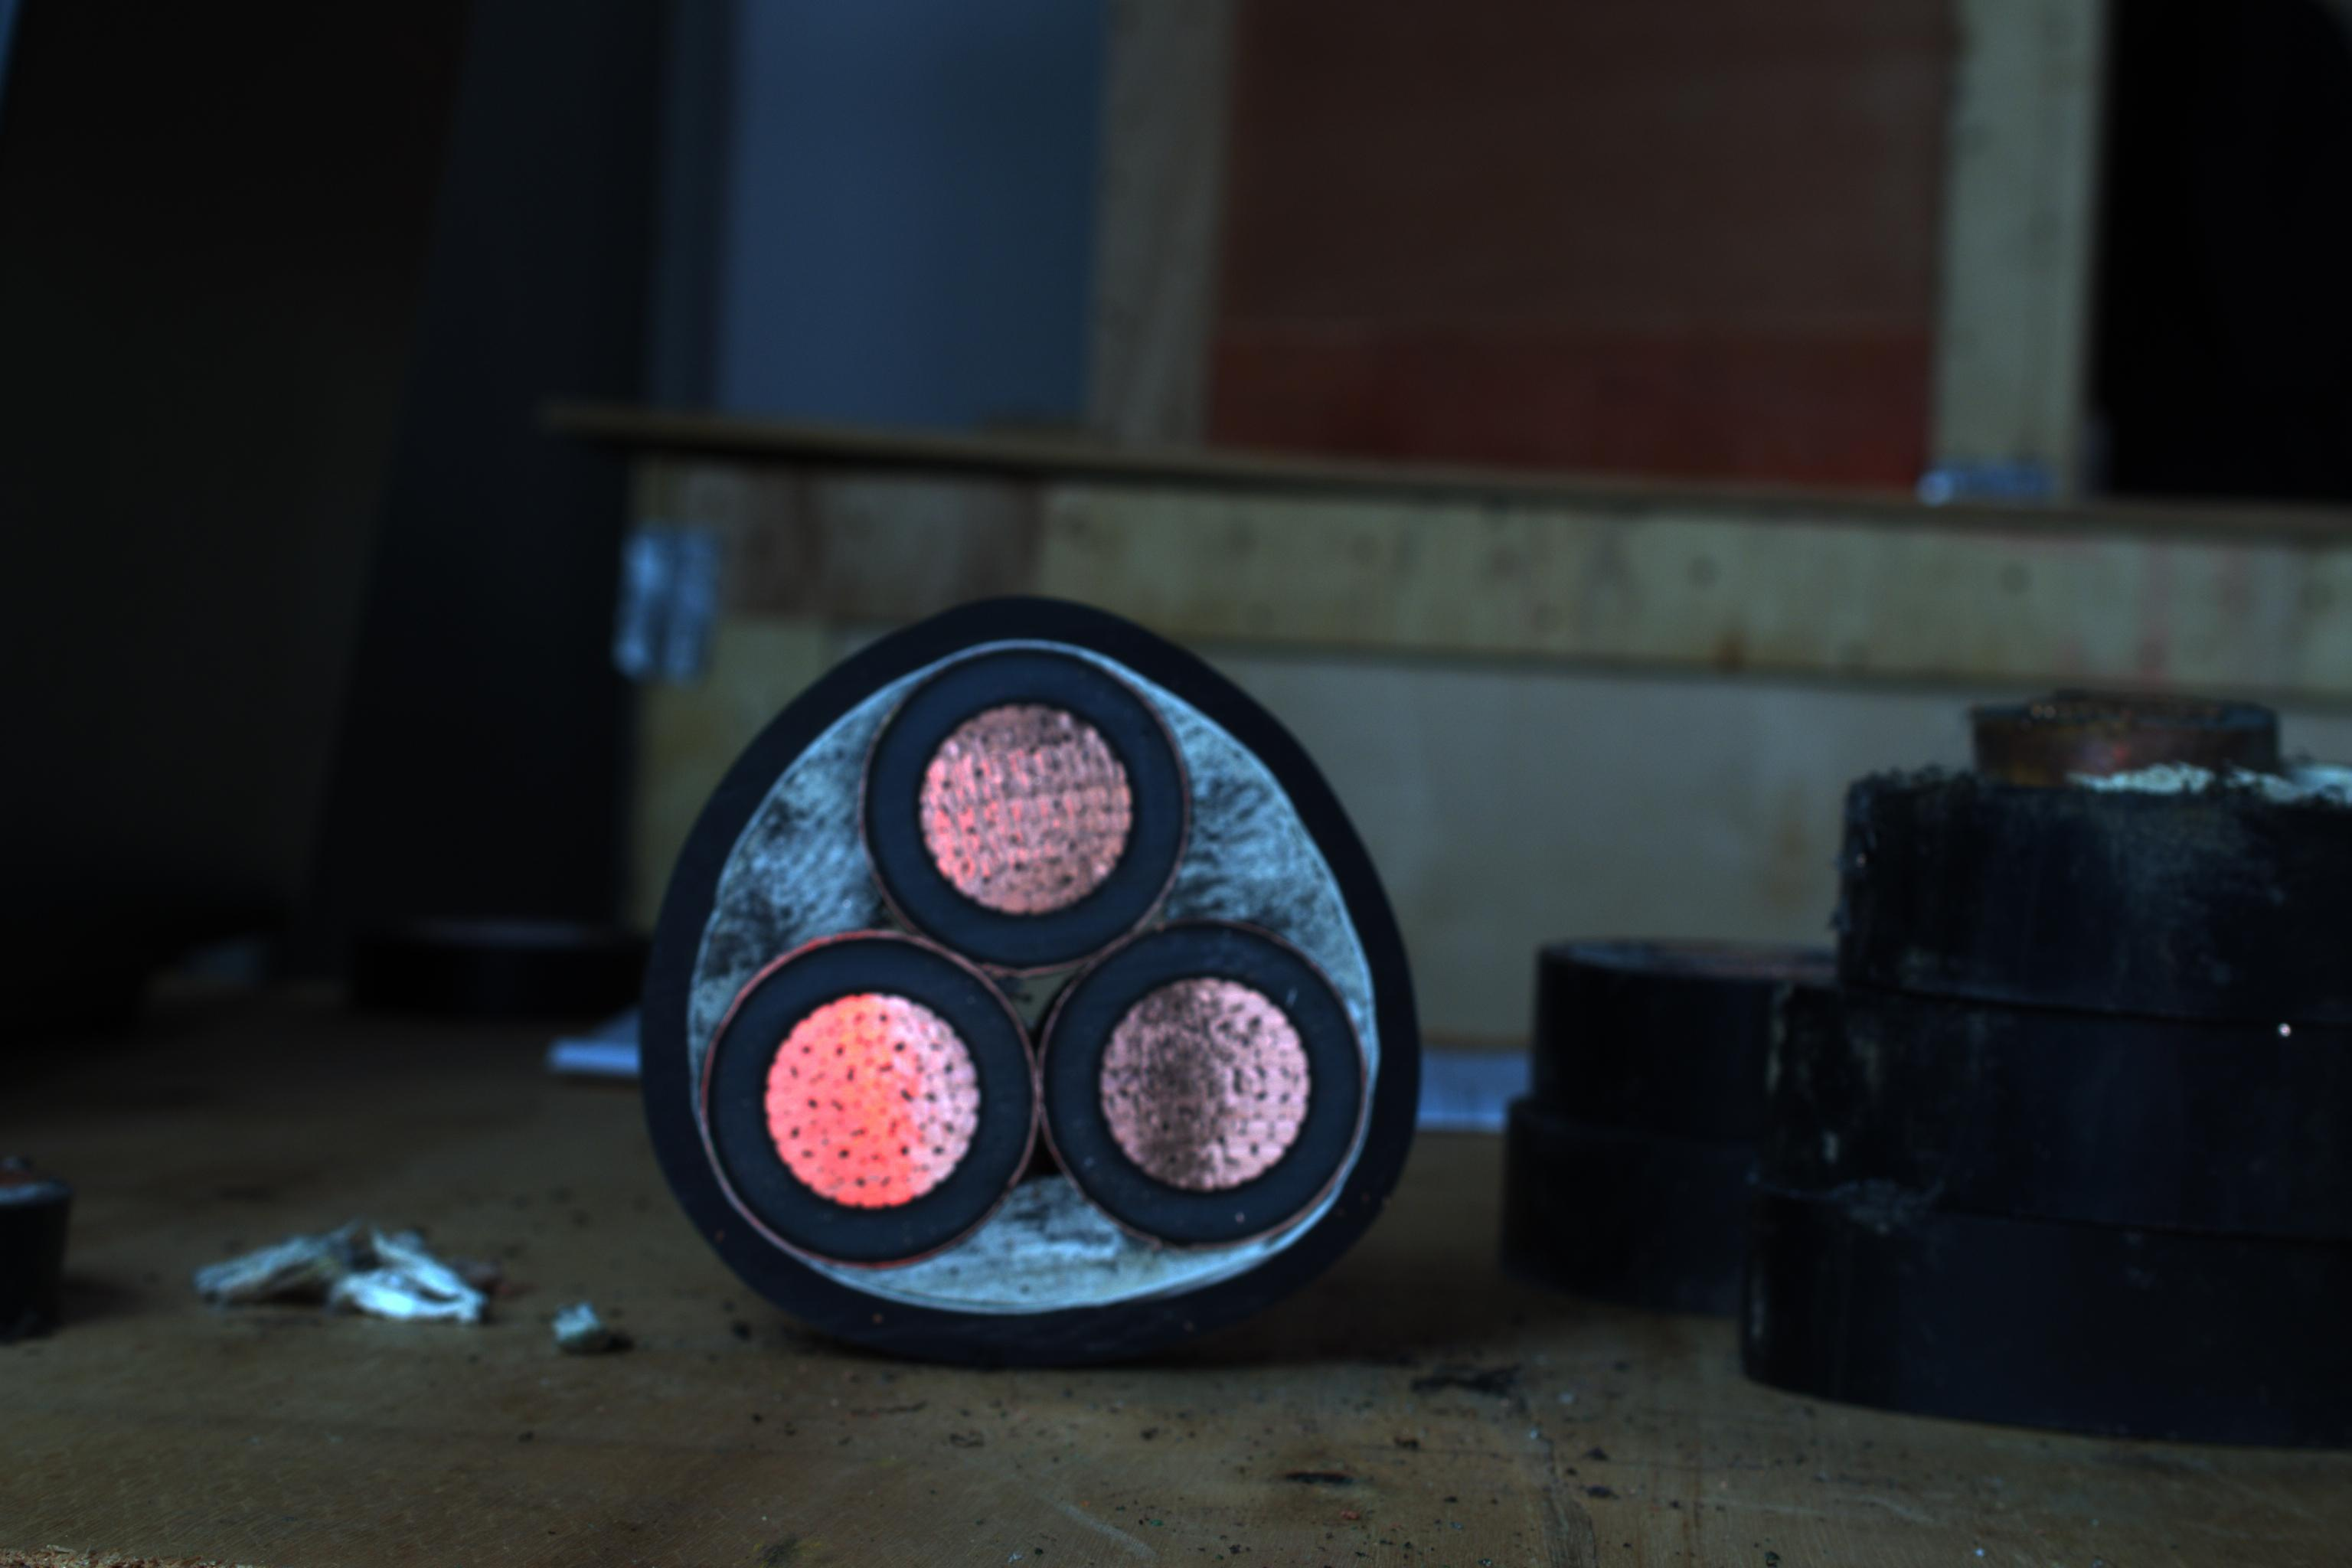ZA_YJV_8.7_10kV_3x400: (644, 600, 1375, 1339)
